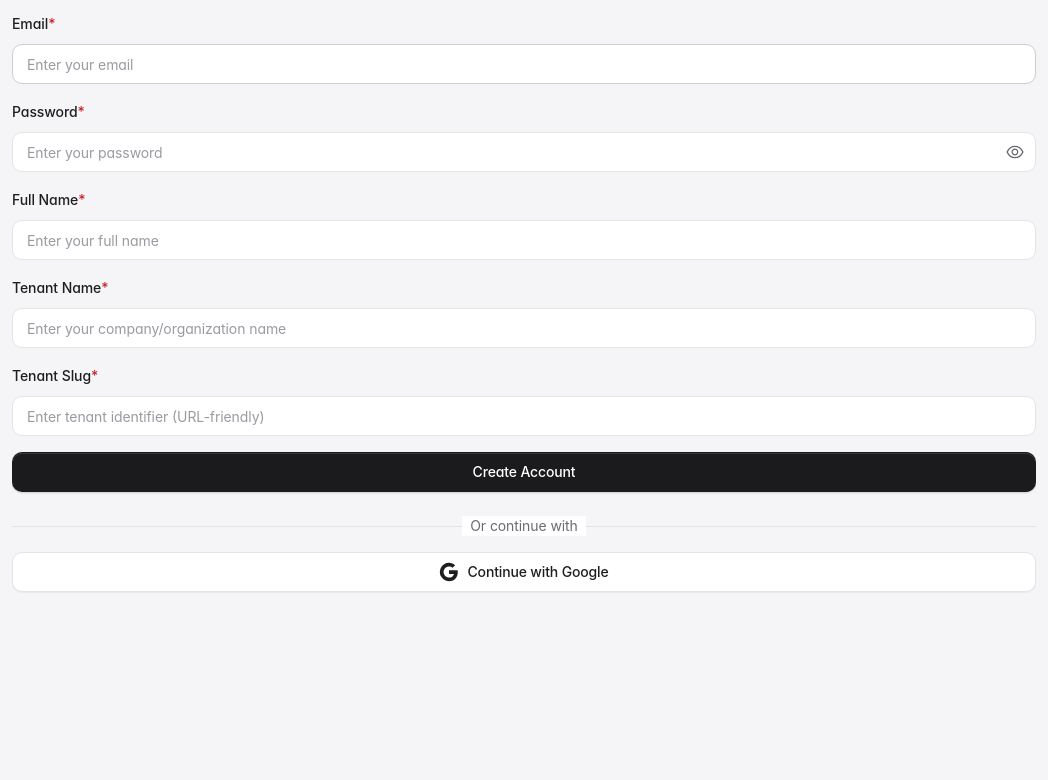
Test: tenant authentication forms › trims registration identity fields before submitting
In the field labelled "Email*": (524, 64) [12,44,1036,84], type "alex@example.com"
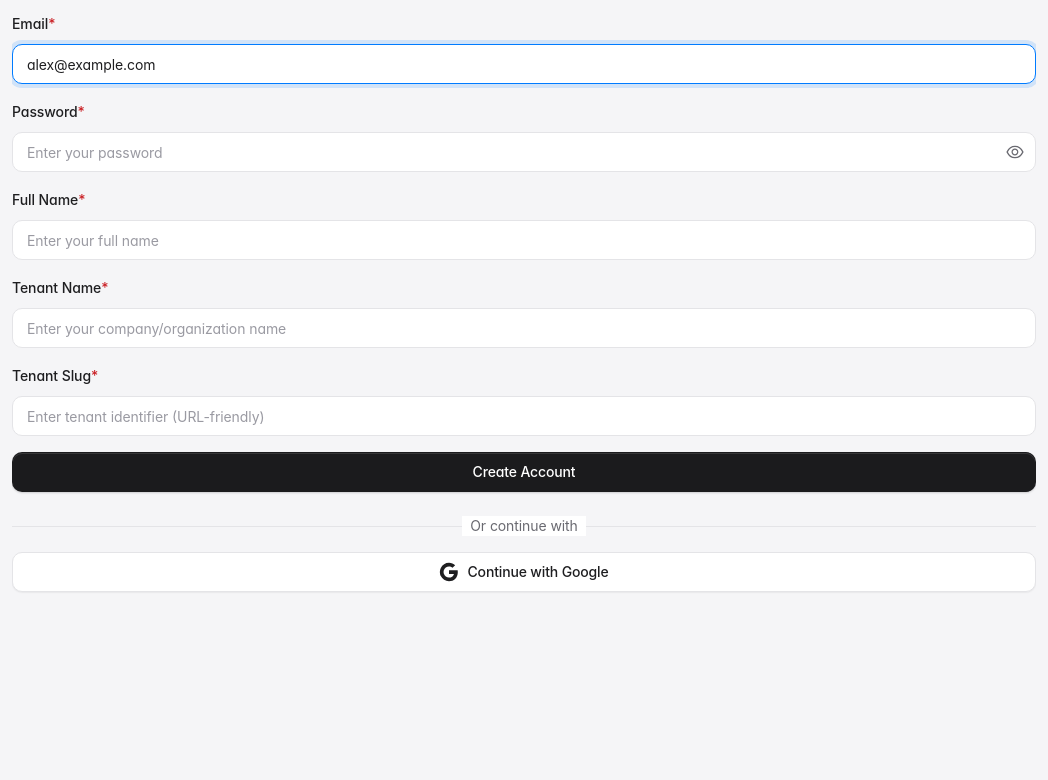
In the password field labelled "Password*": (524, 152) [12,132,1036,172], type "secret12"
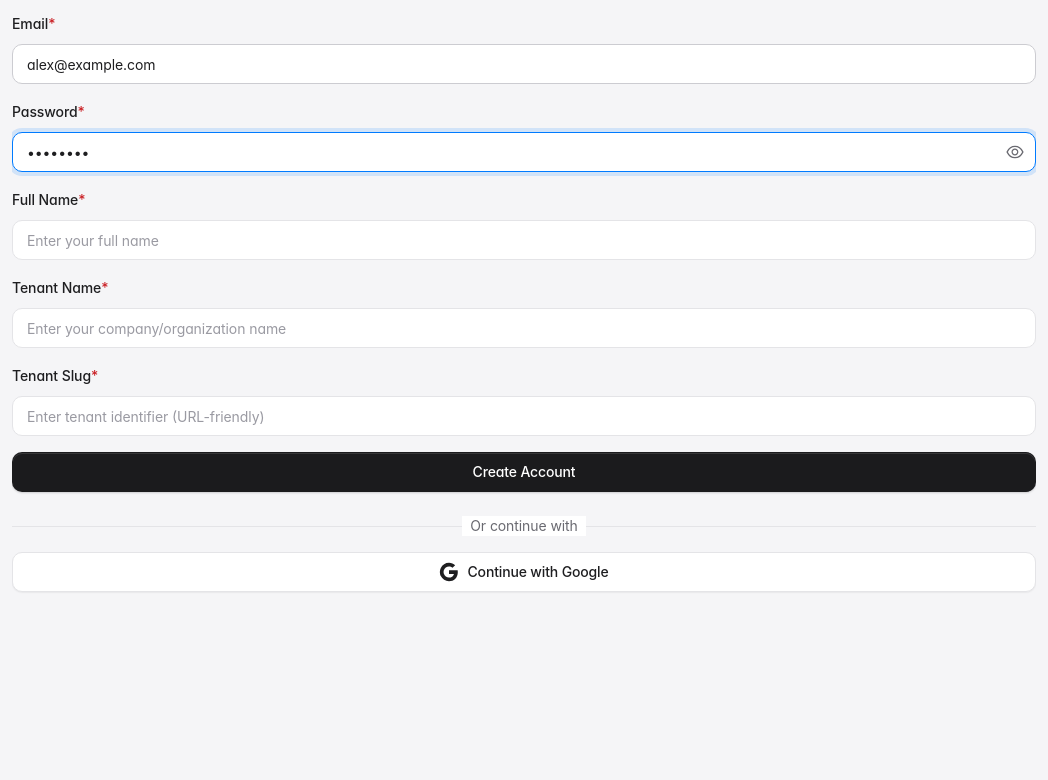
In the field labelled "Full Name*": (524, 240) [12,220,1036,260], type " Alex Morgan "
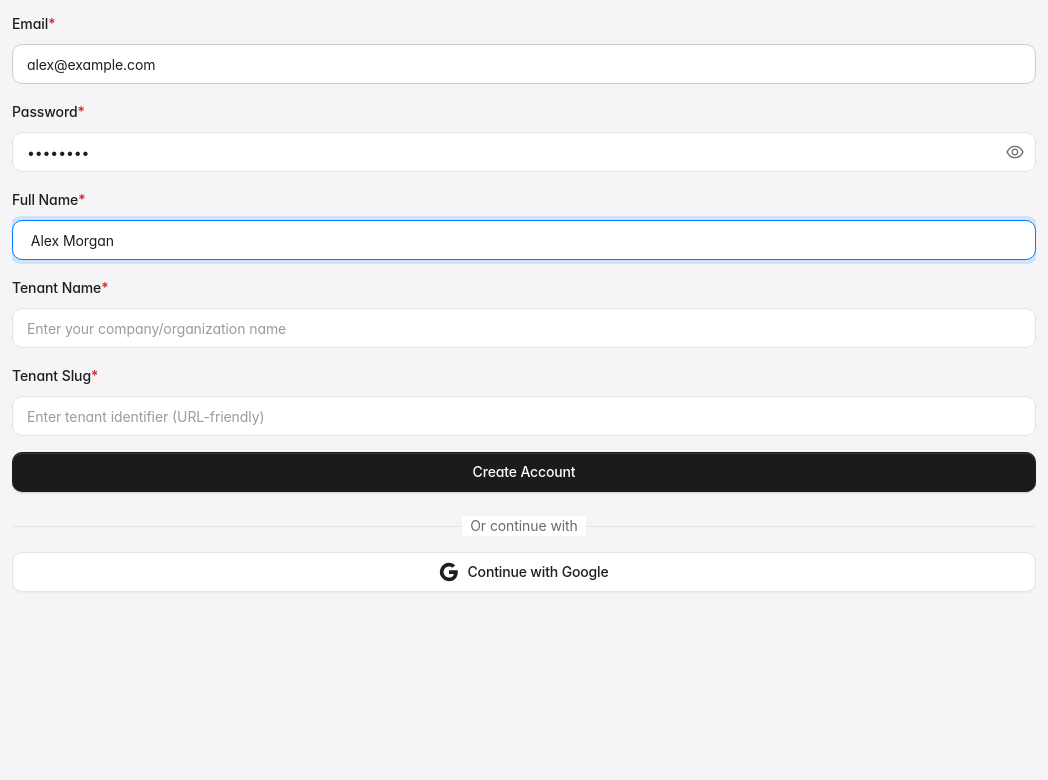
In the field labelled "Tenant Name*": (524, 328) [12,308,1036,348], type " Acme Studio "
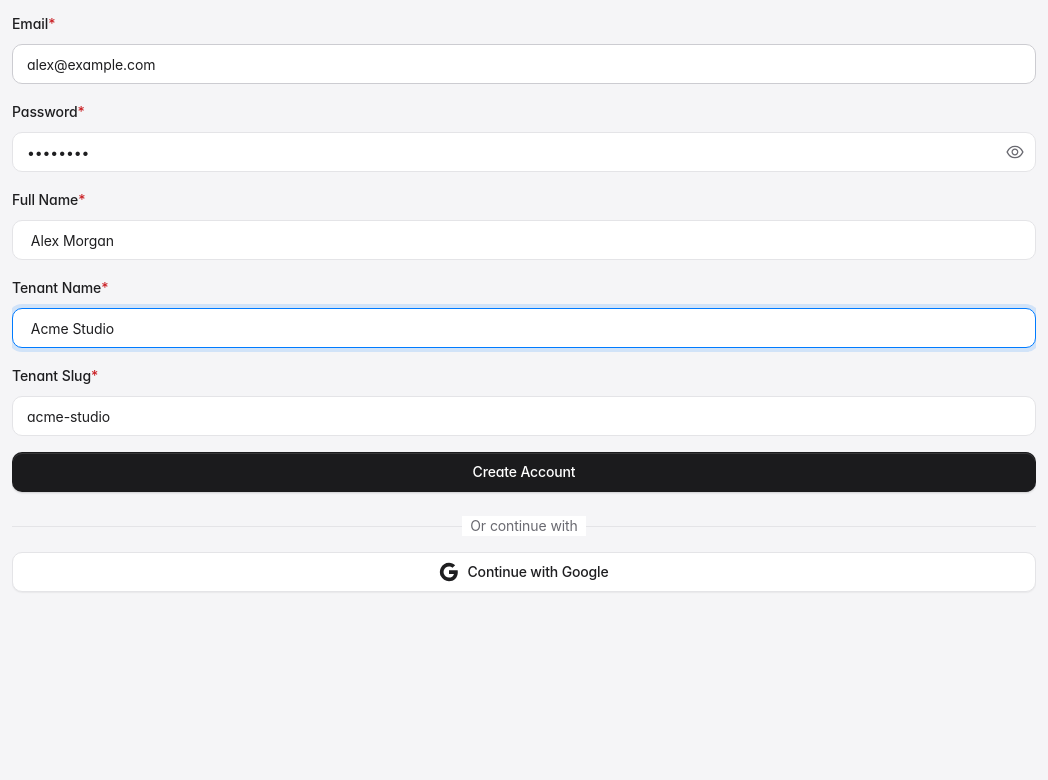
Click the button "Create Account": (524, 472) [12,452,1036,492]
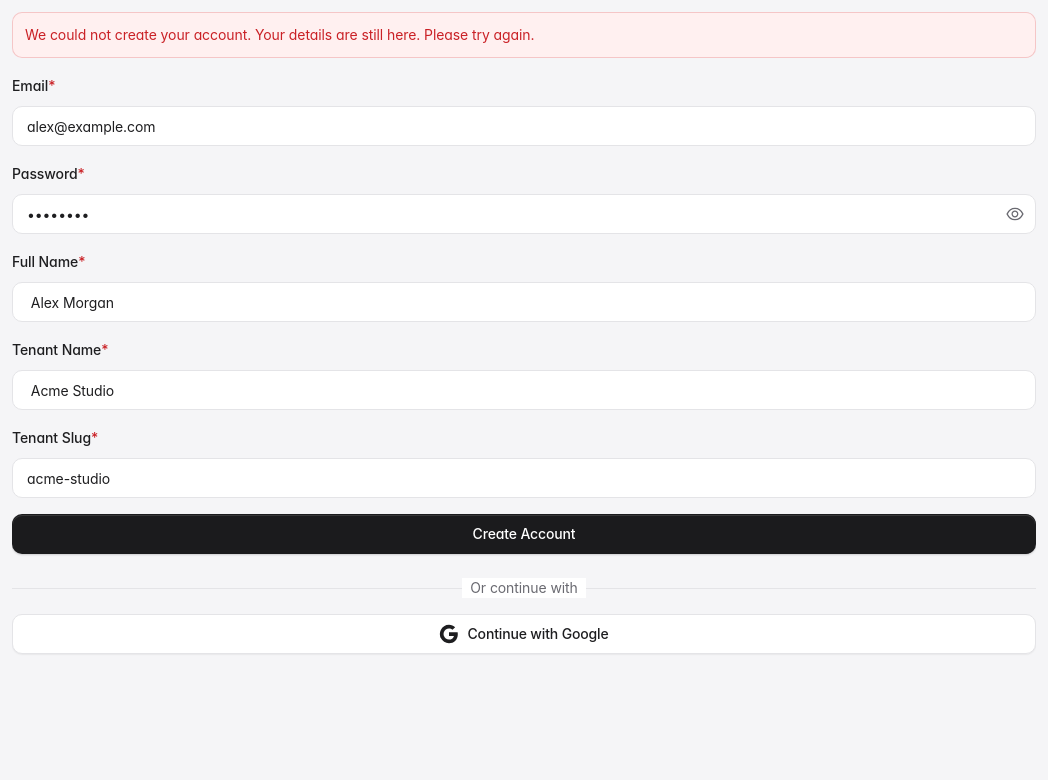
Expected: the message shows "could not create your account", [25,26,534,43]
